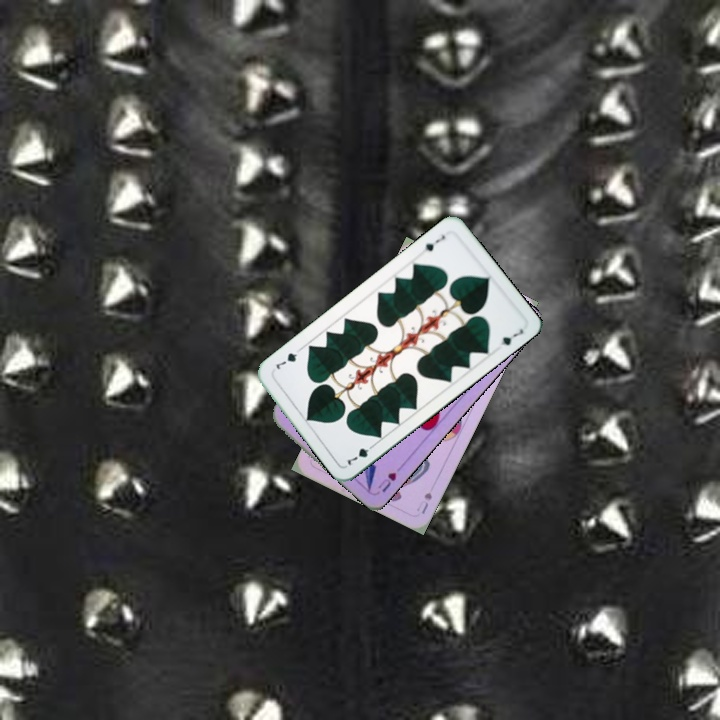G7: (341, 440, 378, 468), (416, 231, 448, 256)
HU: (371, 468, 399, 495)
SU: (413, 488, 435, 517)
